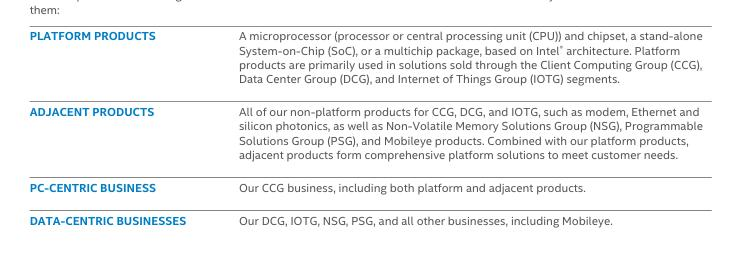table: (28, 28, 701, 226)
table column: (211, 28, 701, 226), (28, 28, 211, 226)
table row: (28, 94, 701, 170), (28, 28, 701, 94), (28, 170, 701, 203), (28, 203, 701, 226)
